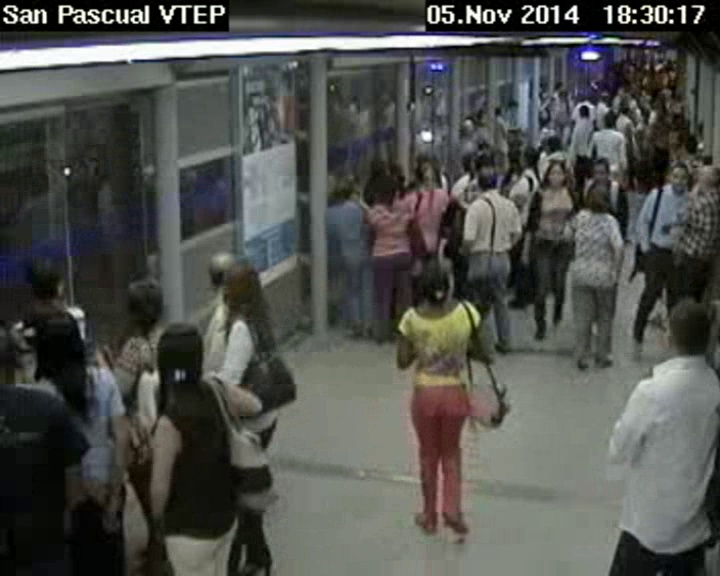person: (26, 302, 92, 370), (663, 301, 716, 358), (158, 322, 205, 384), (26, 252, 72, 307), (118, 278, 164, 329), (226, 264, 260, 316), (208, 248, 241, 286), (420, 262, 450, 303), (414, 158, 448, 190), (332, 171, 360, 205), (581, 179, 612, 207), (667, 159, 691, 194), (696, 163, 720, 192), (541, 156, 564, 186), (377, 173, 402, 199), (475, 165, 498, 193), (504, 139, 526, 166), (515, 143, 539, 167), (592, 154, 611, 180), (681, 131, 699, 157), (603, 107, 618, 132), (460, 116, 477, 138), (547, 134, 565, 150), (494, 102, 506, 117), (579, 102, 589, 118), (553, 80, 565, 93), (507, 100, 517, 113)
